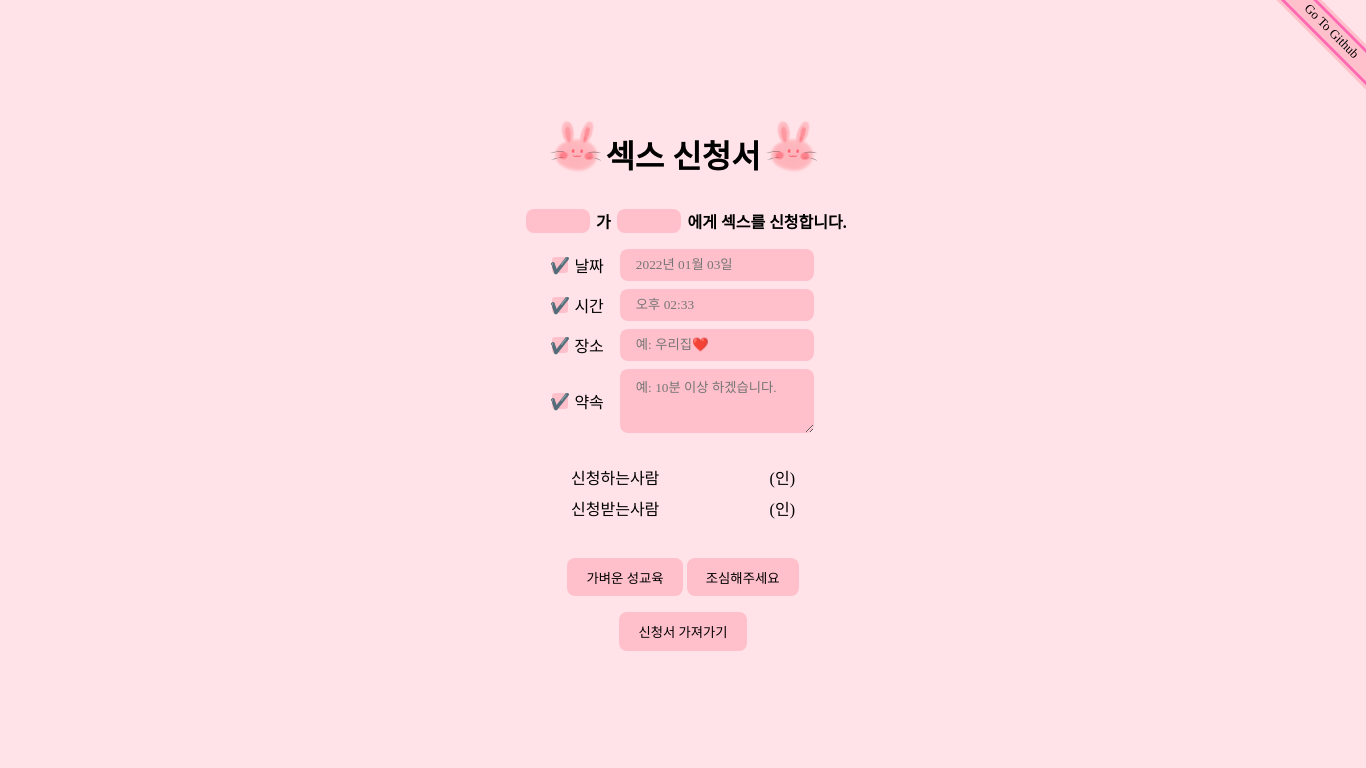
랜딩페이지 › 가벼운 성교육 버튼을 클릭했을 때 › "가벼운 성교육 시간!" 이라는 팝업이 나타납니다.
Click the button "가벼운 성교육" at (625, 577), box [567,558,682,596]
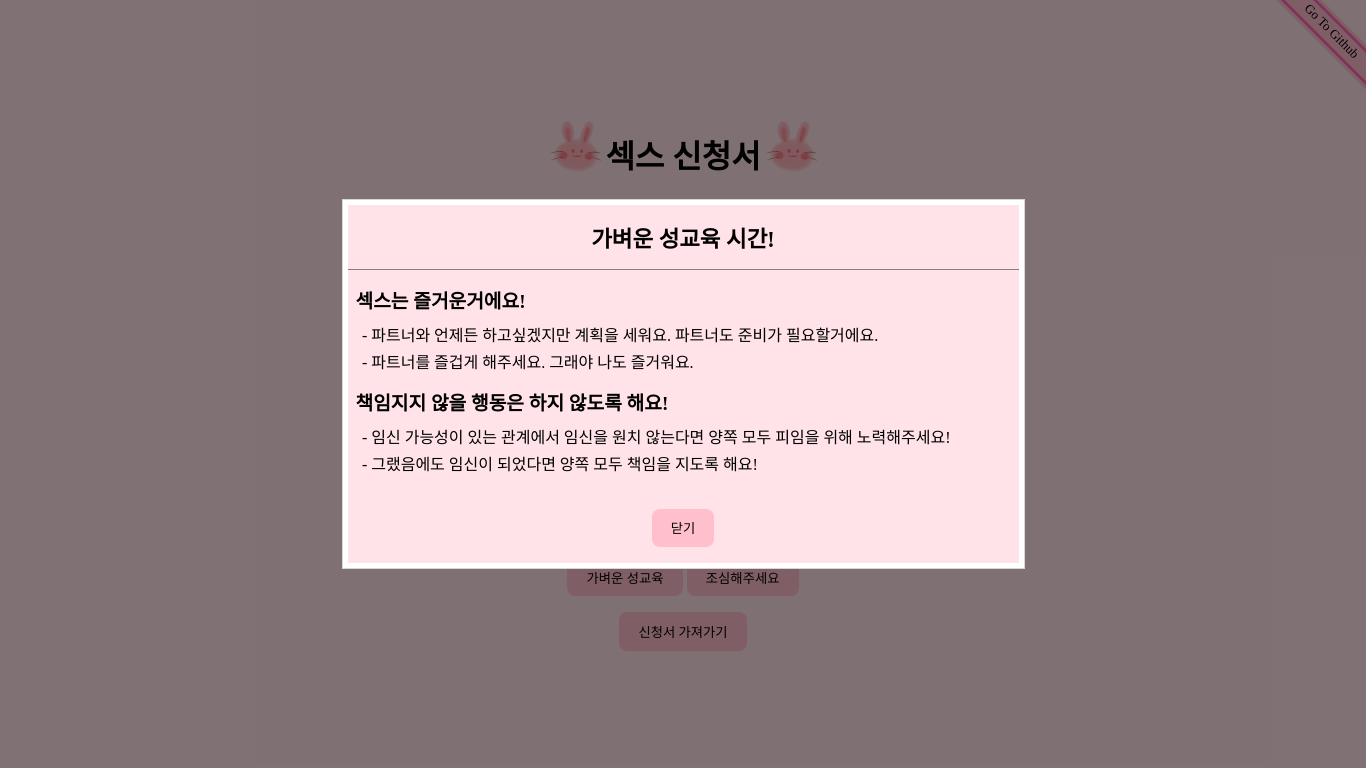
Now the text "가벼운 성교육 시간!" is shown, box [348,205,1018,270]
